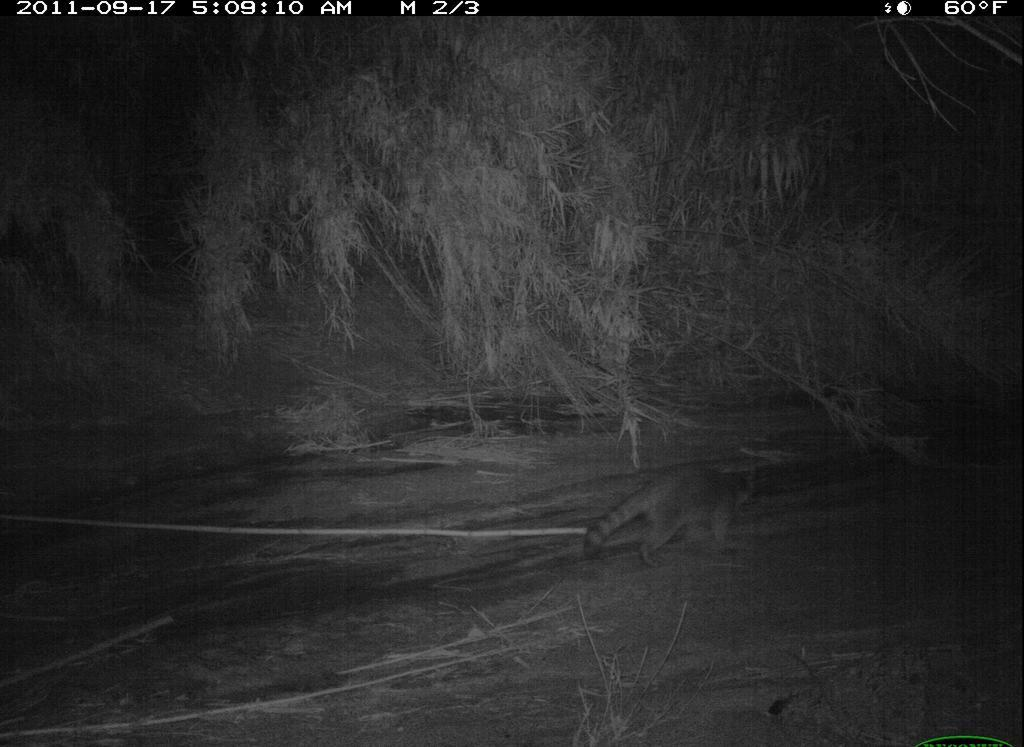raccoon: (577, 454, 763, 580)
